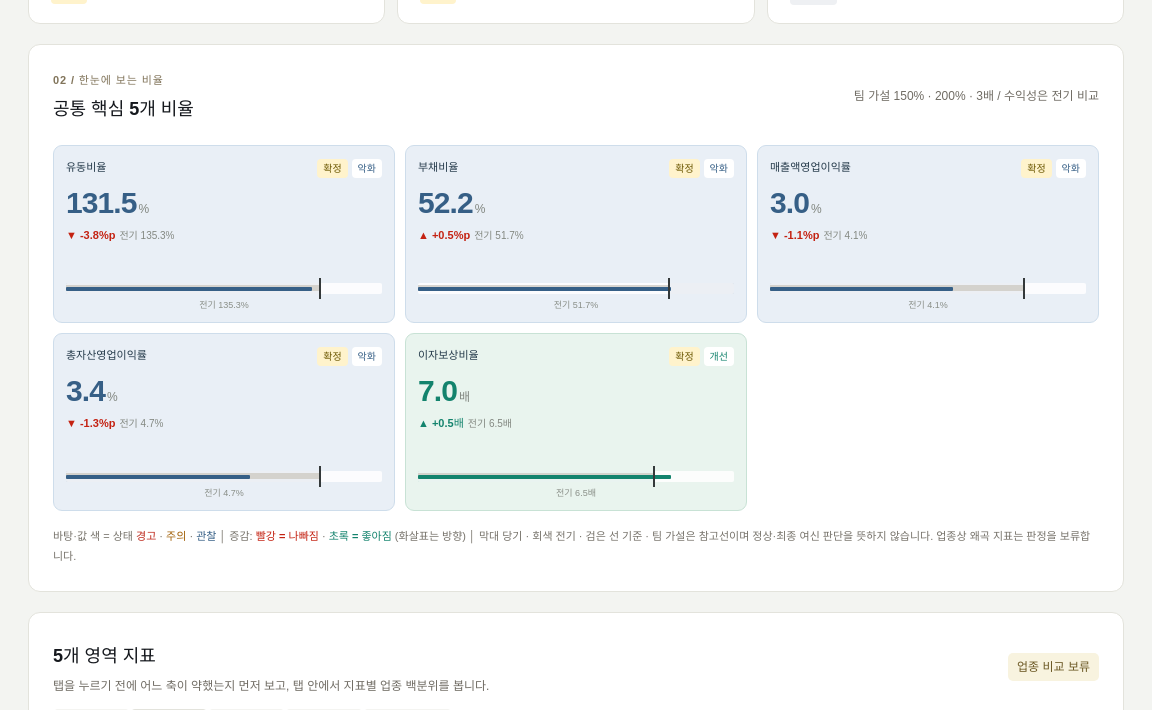
Test: shows closing total assets and its actual value in the operating ROA formula
(page scrolled)
Expected: the element "총자산영업이익률" shows "3.4%", [53,333,395,511]
Step 1. Click the button "총자산영업이익률" → (106, 356), box [66,347,147,365]
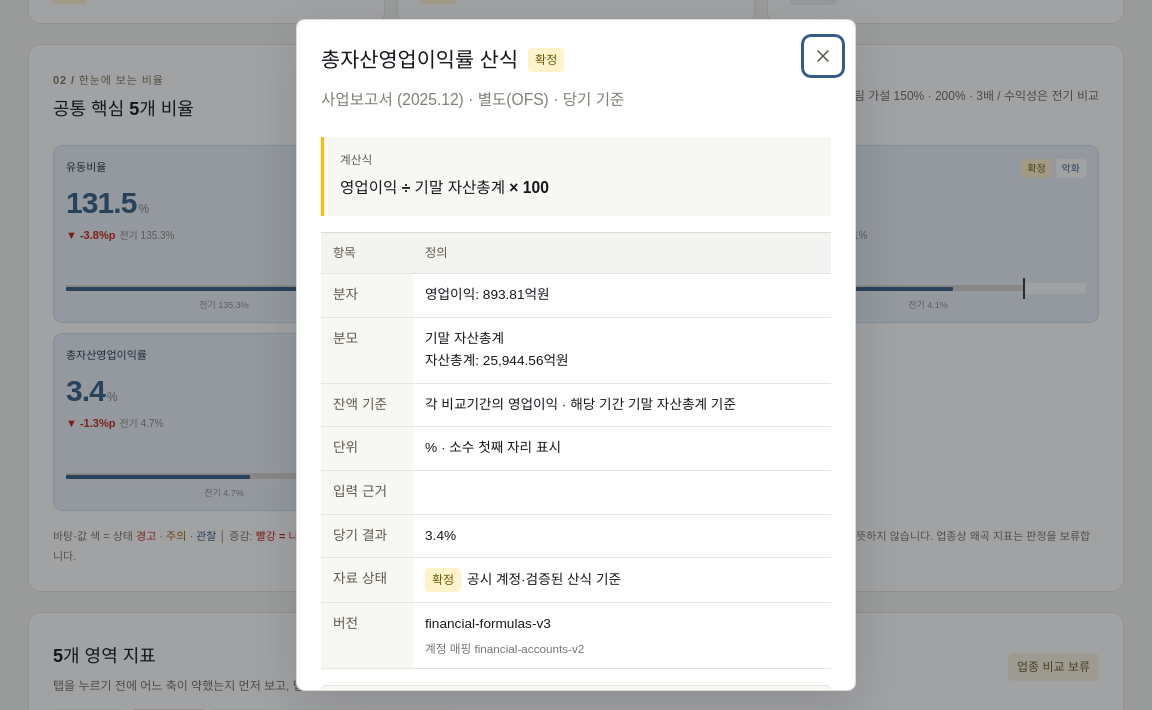
Result: the dialog "총자산영업이익률 산식" shows "영업이익 ÷ 기말 자산총계 × 100" at [340,180,549,196]
Result: the row "분모" shows "기말 자산총계" at [425,331,504,346]
Result: the row "분모" shows "자산총계:" at [321,317,831,383]
